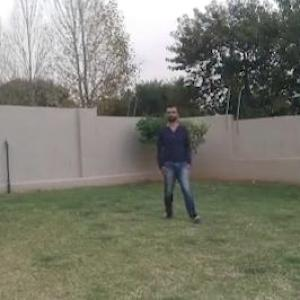follow: (159, 98, 192, 226)
